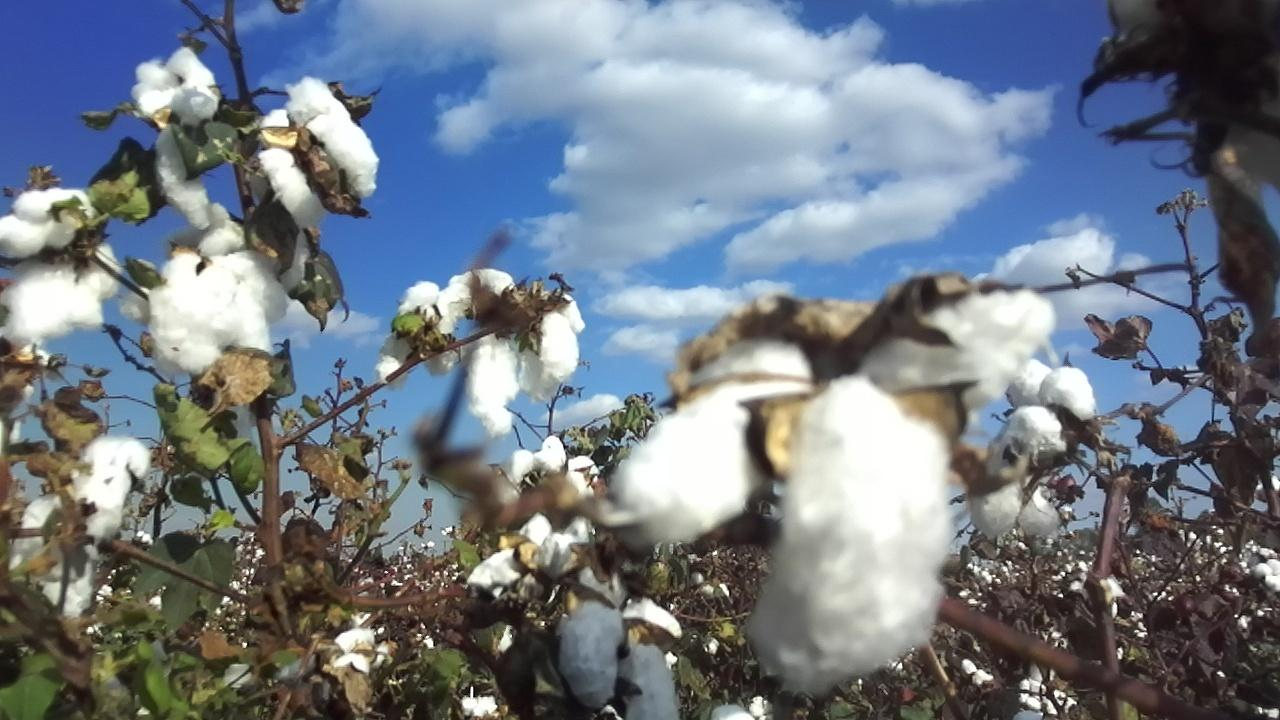cotton_ready: (607, 284, 1059, 695), (9, 432, 149, 620), (440, 265, 589, 439), (147, 224, 292, 377), (975, 359, 1093, 544), (257, 77, 379, 235), (0, 187, 120, 343), (564, 564, 678, 720), (135, 50, 220, 231), (465, 513, 591, 594), (375, 279, 464, 390), (492, 435, 599, 502), (1007, 682, 1076, 720), (332, 625, 380, 671), (707, 692, 777, 720)
